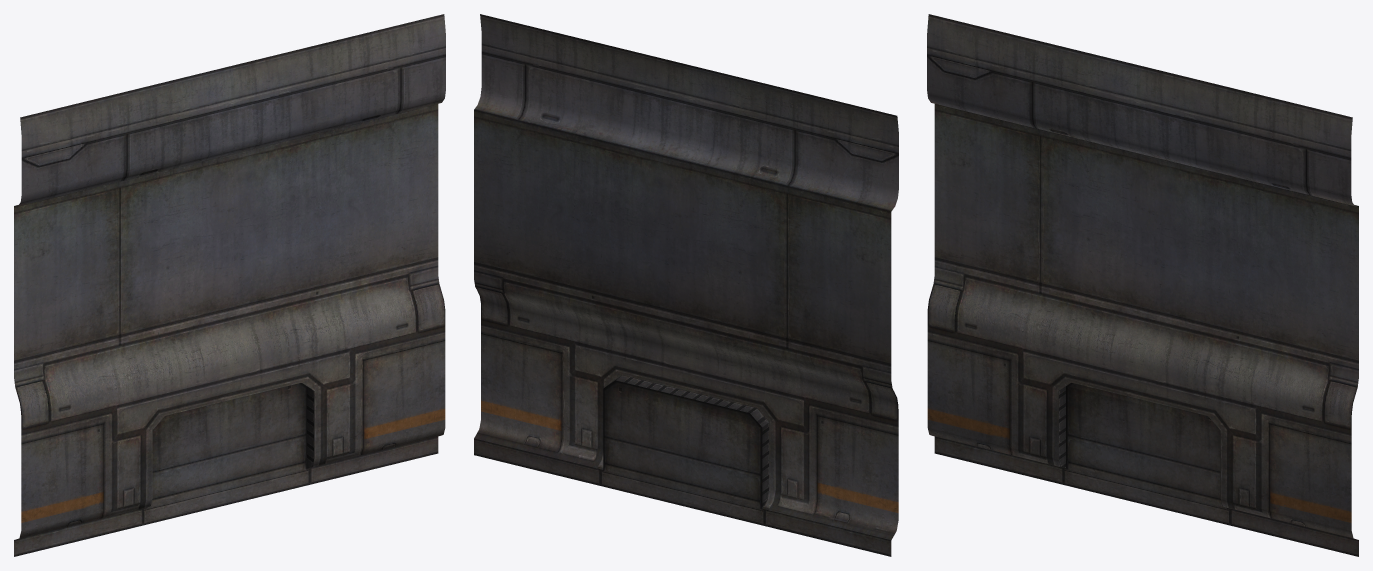
File: bathroom_flat.DAE
The picture shows the model from 3 angles, left to right: view 1: azimuth 30°, elevation 25°; view 2: azimuth 150°, elevation 25°; view 3: azimuth 330°, elevation 25°; orthographic projection.
Visible parts, largest first — view 1: Plane001; view 2: Plane001; view 3: Plane001.
Part boxes in pixels (box(x1,y1,x2,y2)): Plane001: box(14, 14, 445, 556); Plane001: box(474, 14, 898, 556); Plane001: box(927, 14, 1358, 556).
Bounding box in the file's own units: 4 × 4 × 0.1234.
